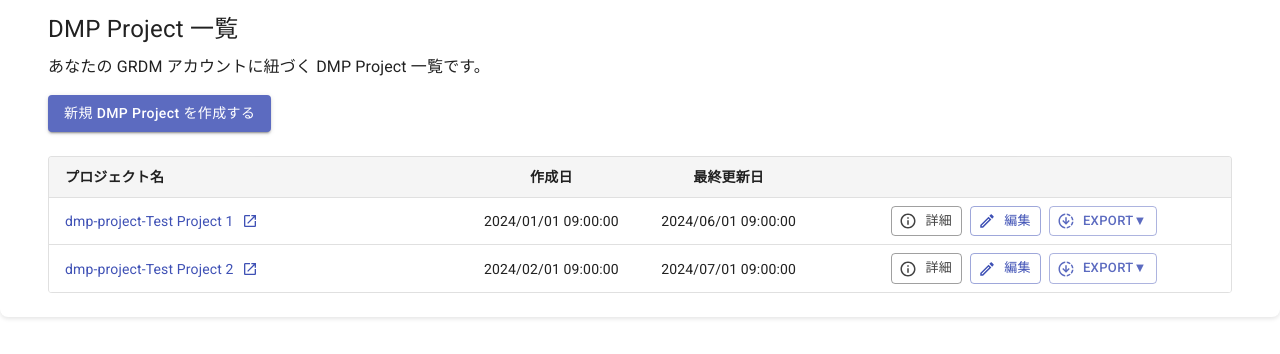
Test: ProjectTable › Export menu › shows export format menu when Export button is clicked
This screenshot has width=1280, height=354.
Click the button "Export▼" in the row of "dmp-project-Test Project 1".
click(1103, 221)  # box [1049, 206, 1157, 236]
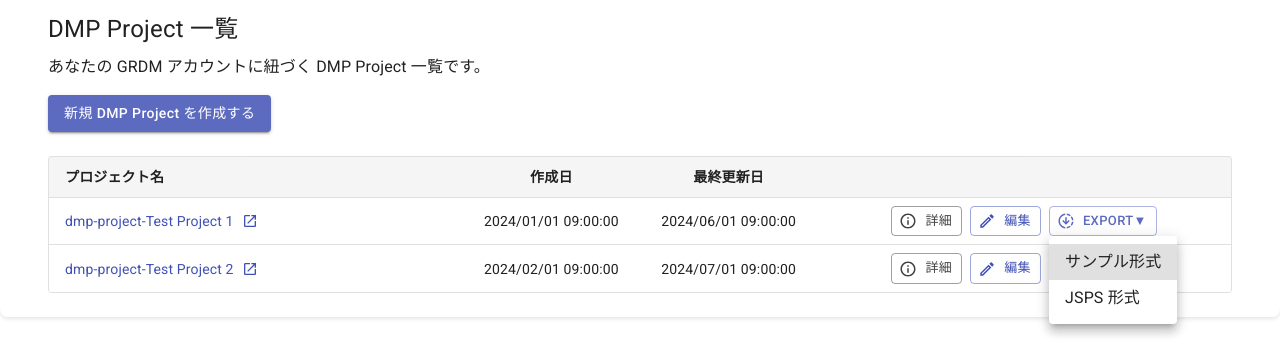
Now the menu item "サンプル形式" is shown, box [1049, 244, 1177, 280]
Now the menu item "JSPS 形式" is shown, box [1065, 288, 1140, 307]
